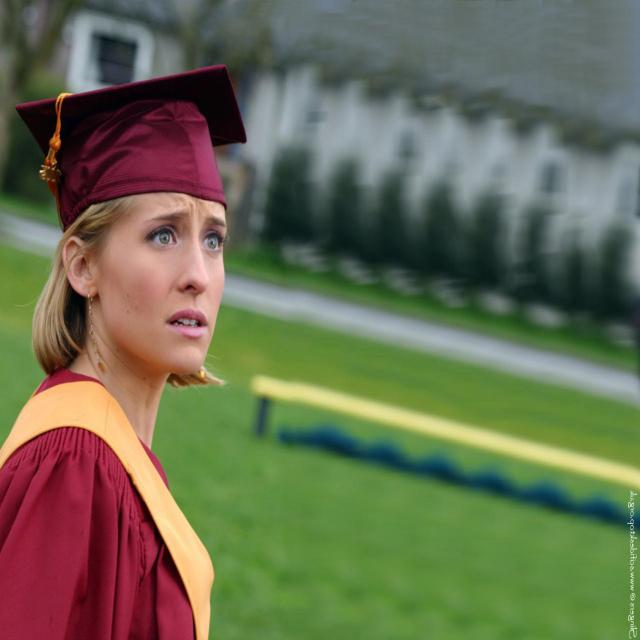no-earmuff: (43, 227, 117, 313)
